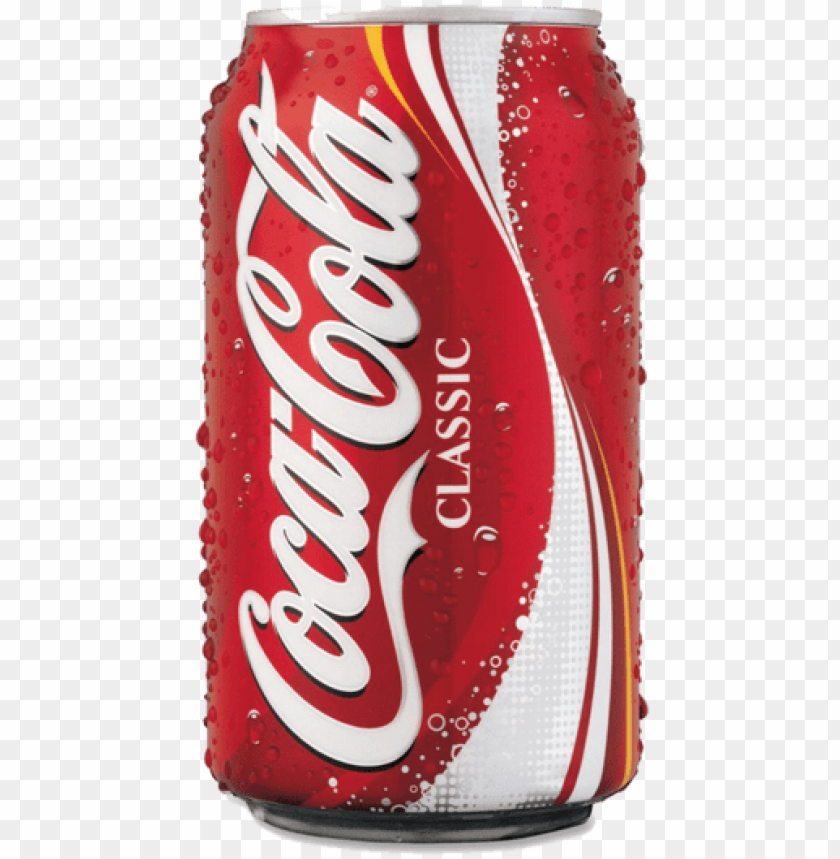coke: (222, 75, 481, 775)
